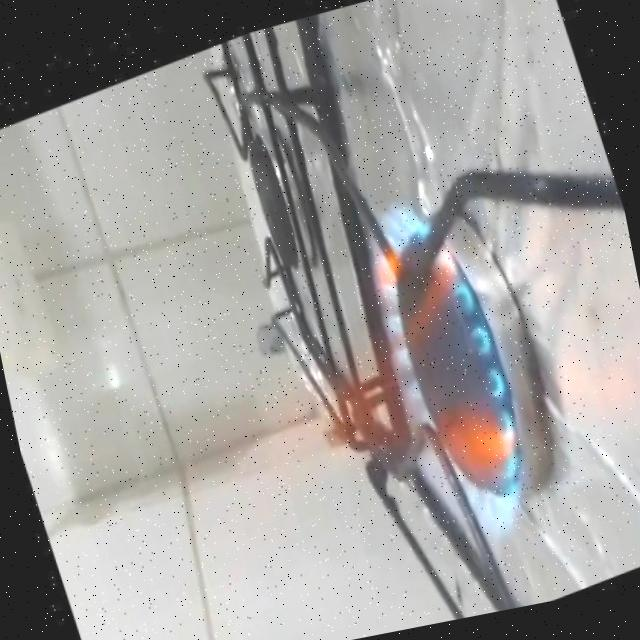fire: (160, 164, 564, 636)
